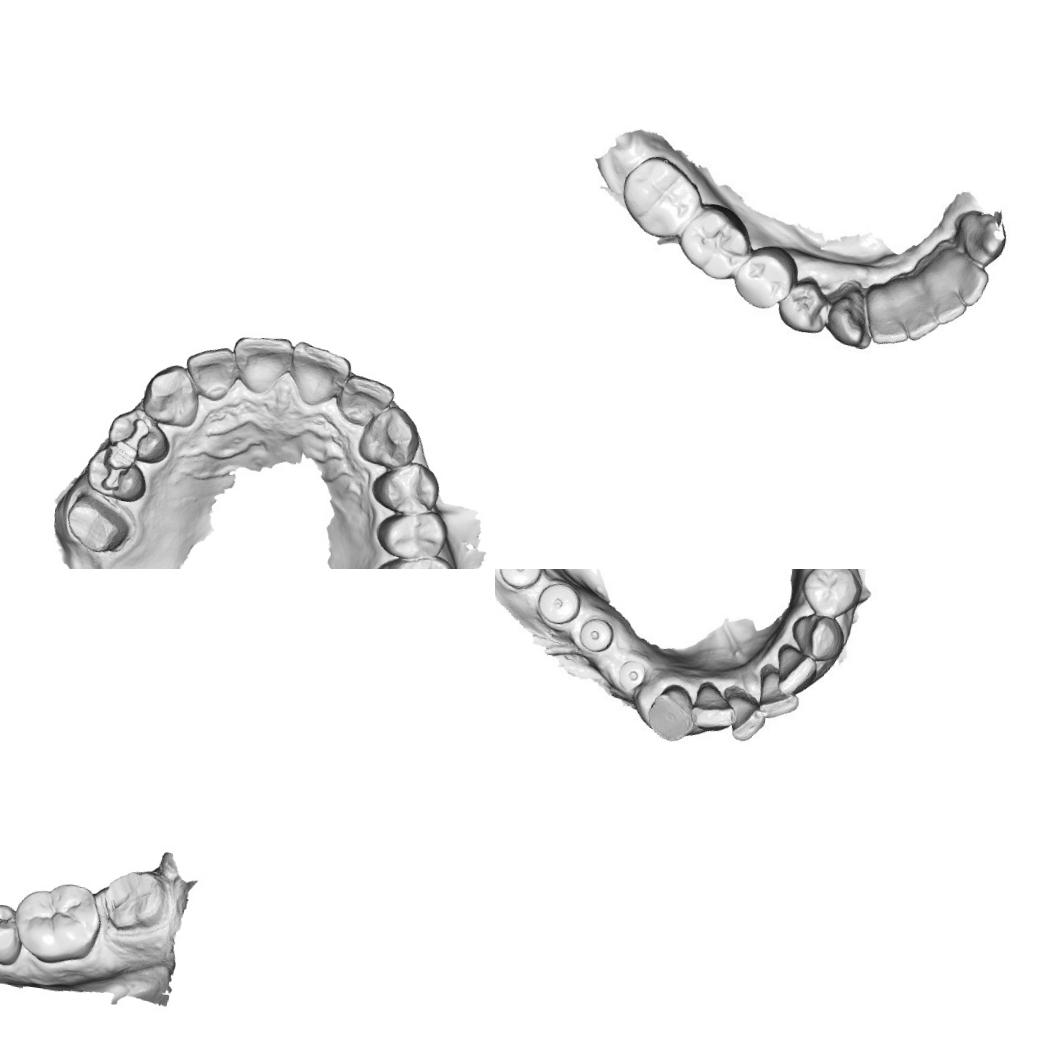canine: (353, 400, 426, 472), (137, 357, 206, 432), (642, 681, 707, 748), (944, 204, 1016, 264), (787, 608, 843, 660), (830, 289, 877, 350)
crown: (94, 860, 177, 940), (57, 484, 140, 560)
implant: (536, 570, 587, 630), (576, 615, 615, 668), (617, 660, 659, 706), (496, 569, 548, 597)
incisor: (283, 336, 356, 413), (227, 330, 299, 401), (178, 340, 243, 405), (334, 371, 397, 432), (892, 274, 948, 340), (768, 640, 826, 697), (690, 676, 737, 736), (720, 684, 768, 741), (925, 273, 973, 326), (944, 252, 990, 304), (865, 290, 909, 342), (757, 672, 803, 720)
inlay: (110, 412, 158, 462), (97, 446, 135, 494)
molar: (8, 875, 106, 972), (618, 154, 700, 244), (677, 204, 750, 283), (363, 545, 463, 569)
premolar: (371, 501, 452, 568), (366, 456, 444, 520), (730, 246, 795, 310), (774, 272, 831, 336), (804, 569, 855, 620), (0, 899, 27, 967)
